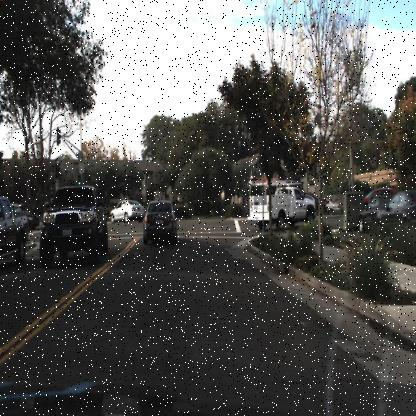car: (38, 184, 106, 269), (248, 182, 316, 232), (0, 195, 30, 270), (375, 188, 415, 237), (139, 198, 178, 247), (356, 192, 396, 233), (108, 198, 146, 224)
trafficLight-Green: (76, 170, 84, 188)
